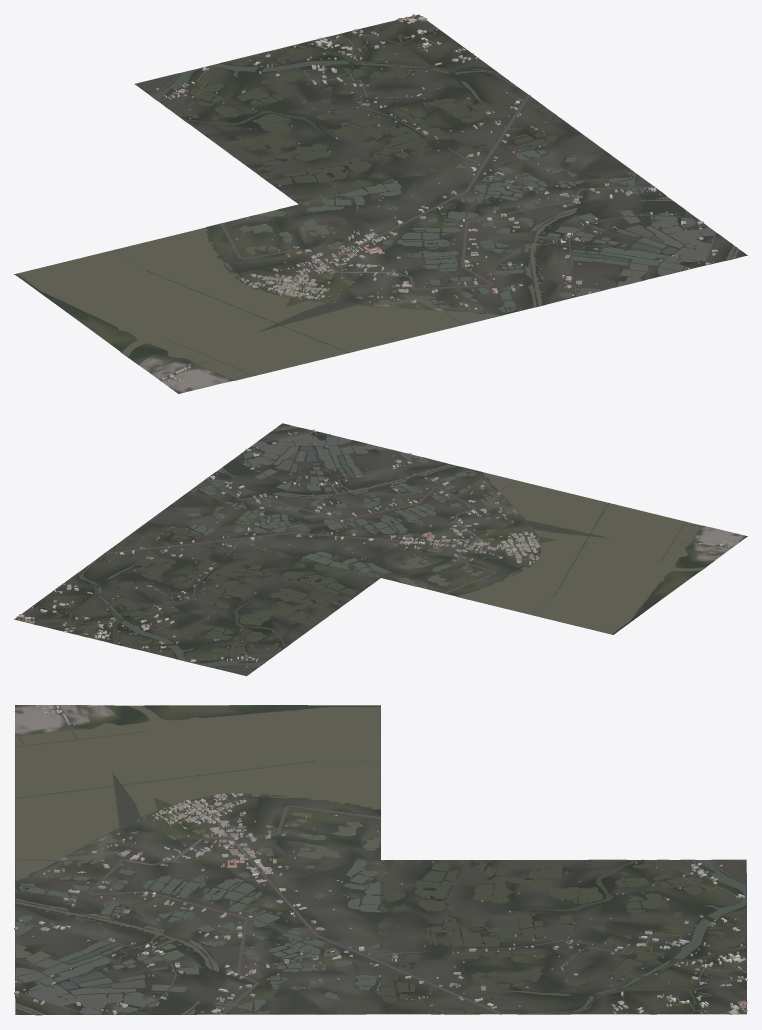
3 views of the same model, one above another, from view 1: azimuth 30°, elevation 25°; view 2: azimuth 150°, elevation 25°; view 3: azimuth 270°, elevation 25° (orthographic). The views are drawn at different scales.
Parts seen in each view (by area): view 1: ground, water, buildings, roads; view 2: ground, water, buildings, roads; view 3: ground, water, buildings, roads.
Part boxes in pixels (box(x1,y1,x2,y2)): ground: box(14, 14, 747, 393); water: box(17, 20, 738, 380); buildings: box(156, 14, 717, 386); roads: box(150, 14, 715, 298); ground: box(14, 423, 747, 676); water: box(34, 425, 705, 666); buildings: box(16, 429, 737, 667); roads: box(15, 431, 539, 667); ground: box(15, 705, 746, 1015); water: box(15, 705, 746, 1015); buildings: box(14, 705, 747, 1014); roads: box(15, 795, 746, 1014).
Bounding box in the file's own units: 2806 × 19.21 × 2810.
